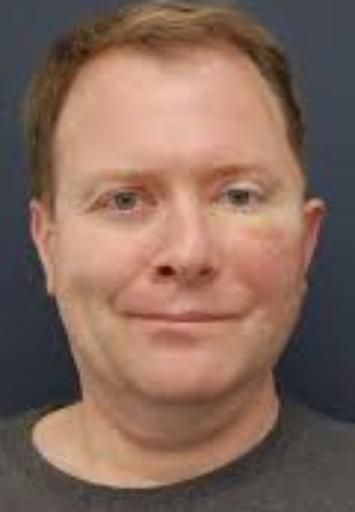left_eye: (210, 187, 267, 216)
left_lip_corner: (226, 308, 243, 328)
right_eye: (93, 189, 153, 219)
right_lip_corner: (114, 299, 156, 330)
